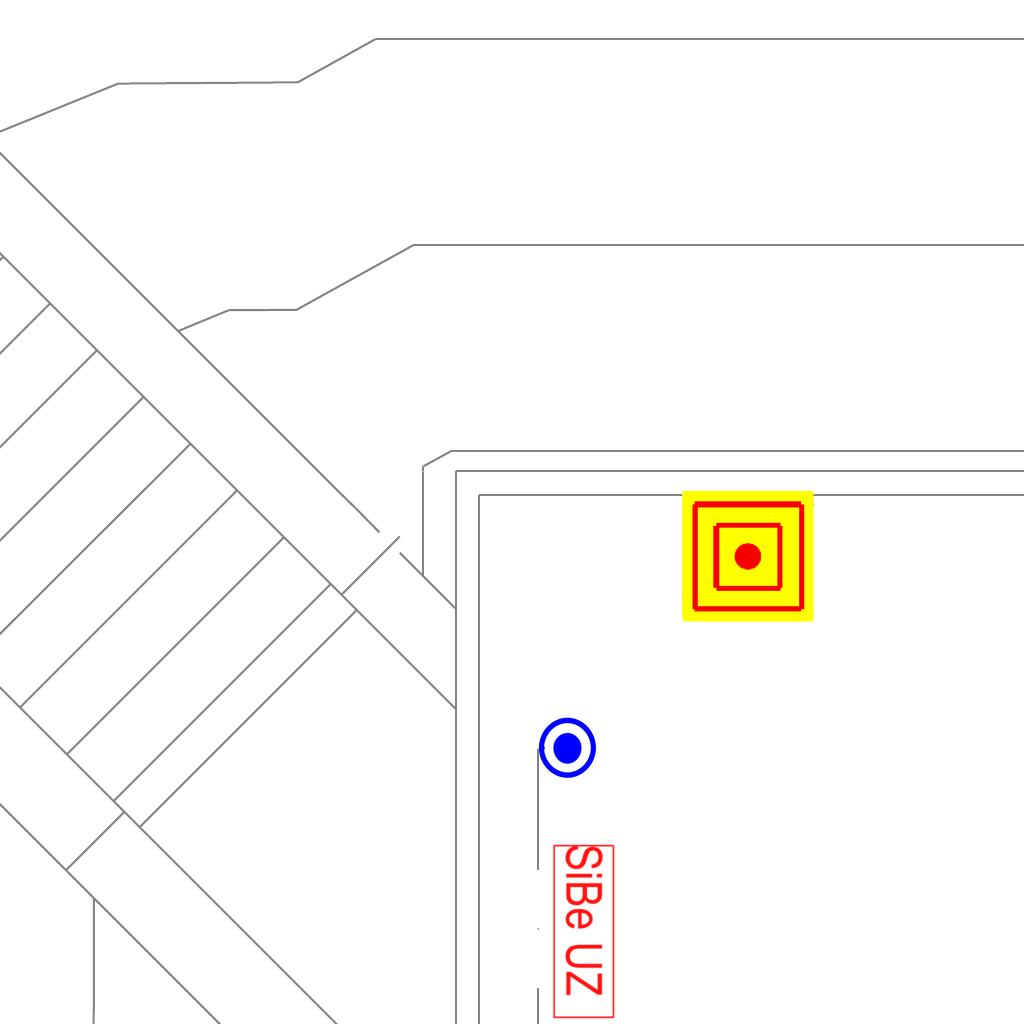NAM-Nichtautomatischer_Melder: (682, 490, 814, 622)
Taster: (532, 715, 598, 781)
Zentrale_Sicherheitsbeleuchtung: (551, 843, 616, 1021)
